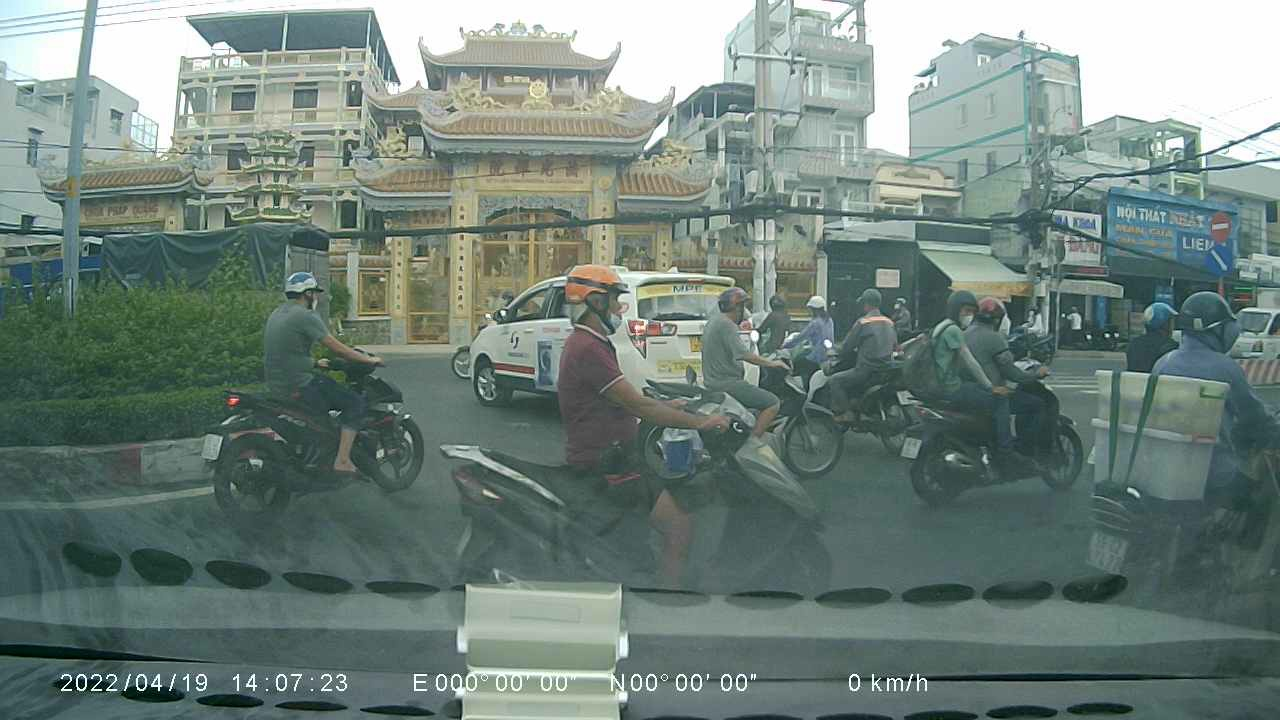Cam di nguoc chieu: (1208, 209, 1232, 240)
Huong di phai re phai: (1204, 242, 1232, 279)
